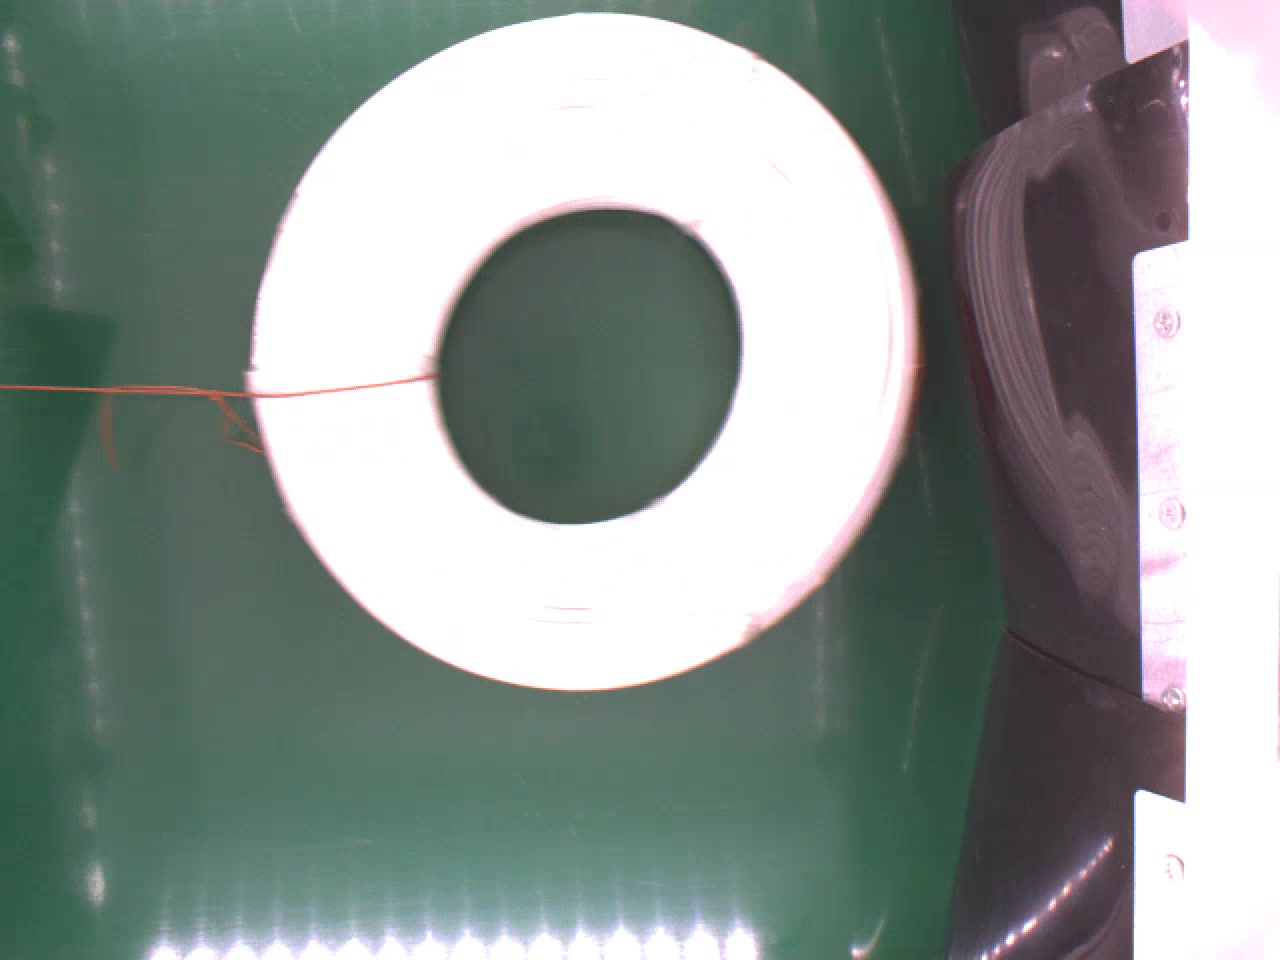white: (245, 7, 921, 690)
